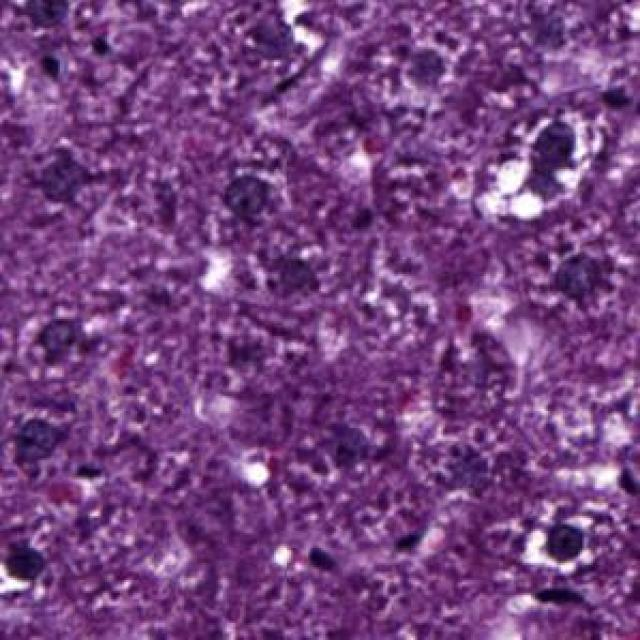inflammation: (546, 508, 595, 568)
